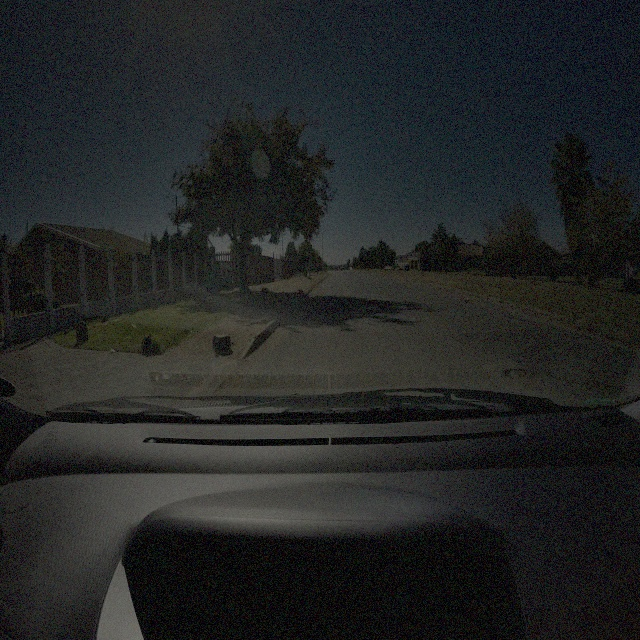pothole: (504, 365, 544, 388), (582, 378, 621, 397)
